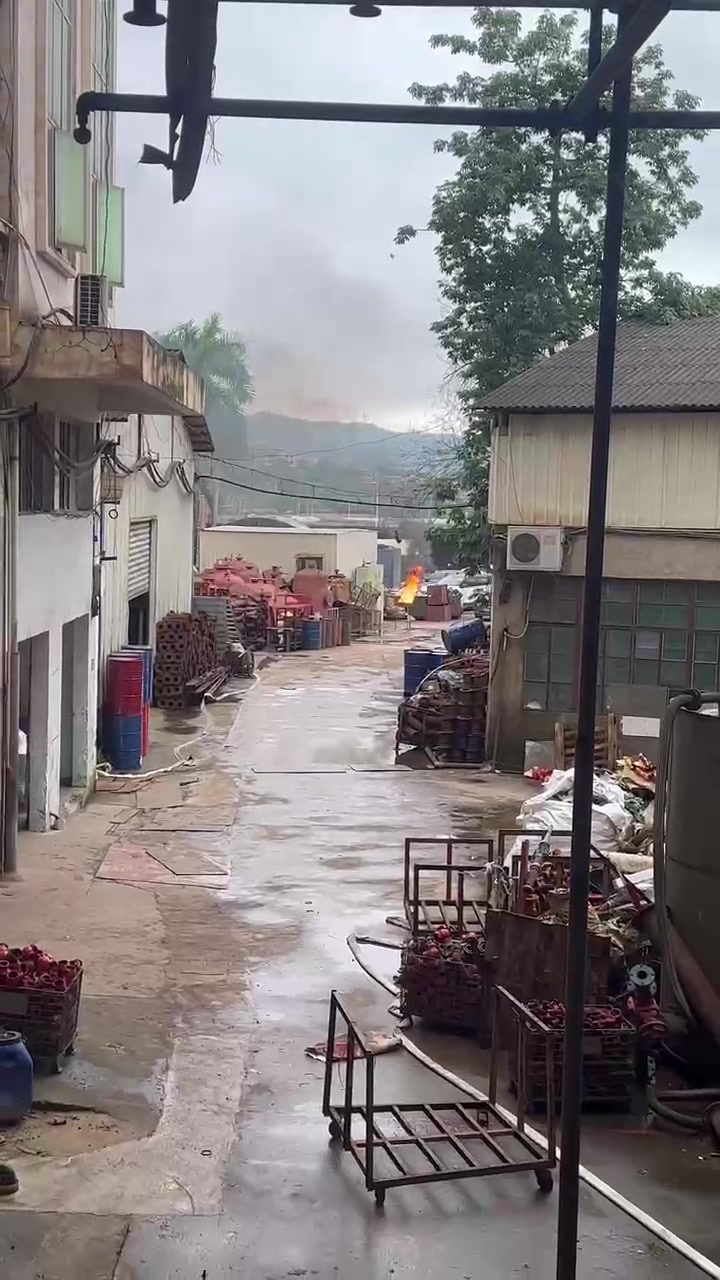fire: (397, 566, 420, 601)
